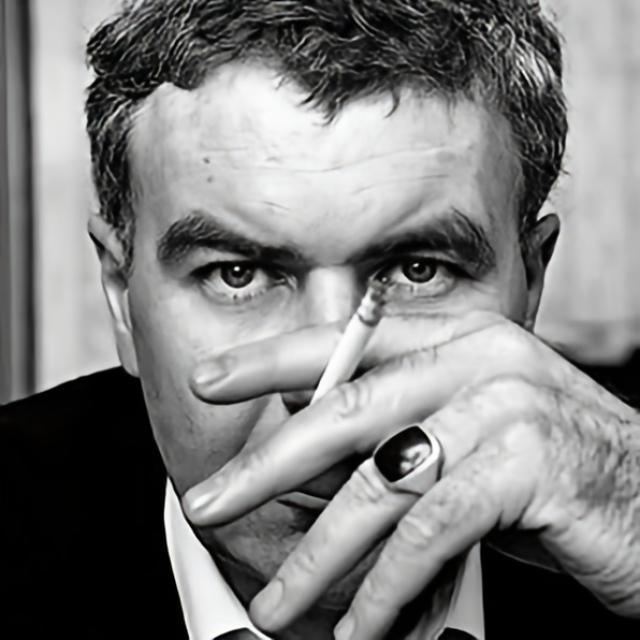anger: (122, 92, 534, 605)
